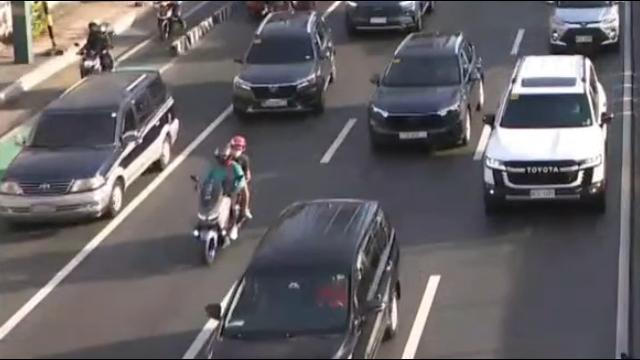car: (201, 195, 405, 360), (0, 66, 182, 231), (478, 53, 618, 221), (365, 26, 488, 154), (232, 7, 339, 123), (547, 0, 623, 53)
motorcycle: (189, 133, 253, 264), (71, 23, 118, 91), (156, 0, 185, 47)
